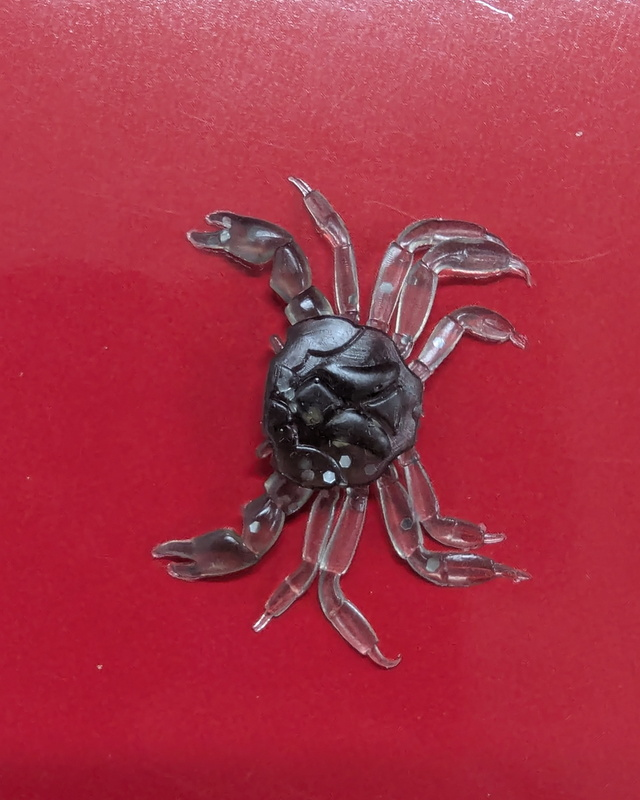crab1: (149, 173, 536, 674)
